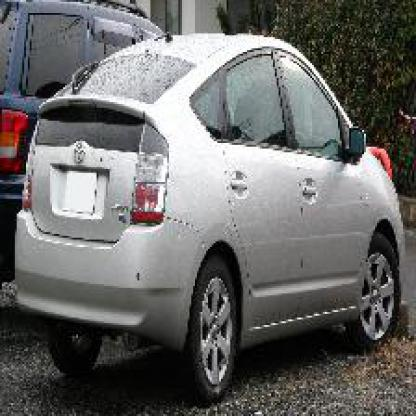not_emergency: (19, 30, 396, 394)
